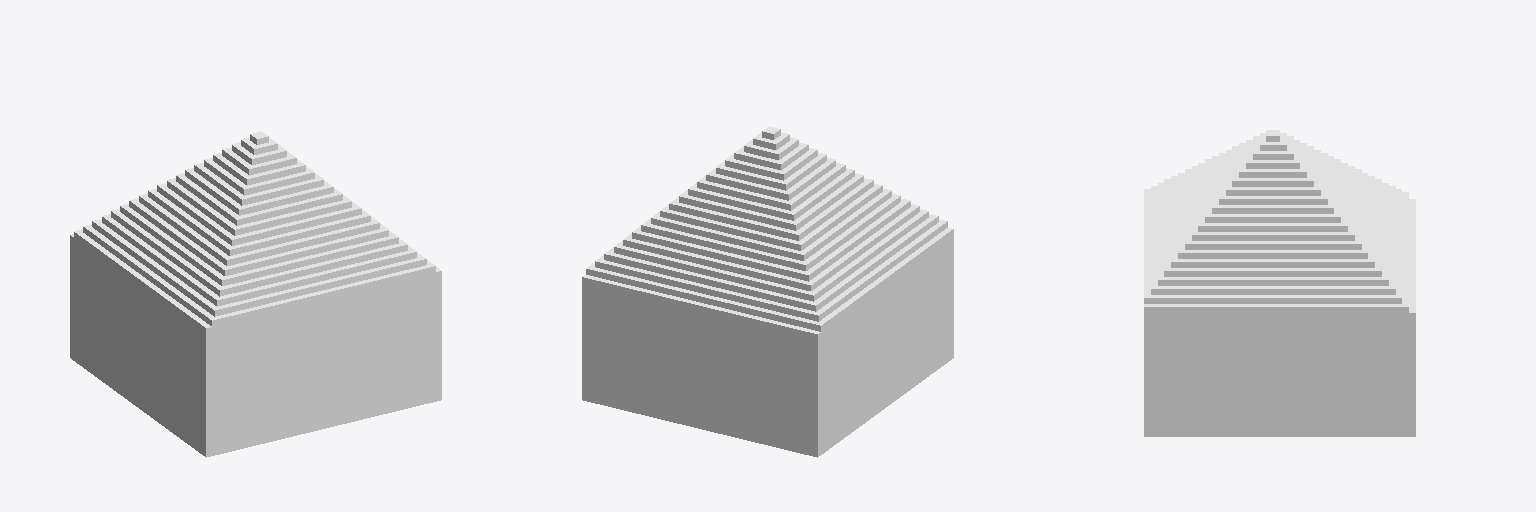
The model's file is big_spike.obj.
3 views of the same model, side by side, from view 1: azimuth 30°, elevation 25°; view 2: azimuth 150°, elevation 25°; view 3: azimuth 270°, elevation 25° (orthographic).
Parts seen in each view (by area): view 1: object 1; view 2: object 1; view 3: object 1.
Part boxes in pixels (bbox=[...]): object 1: bbox=[70, 131, 441, 457]; object 1: bbox=[582, 126, 953, 457]; object 1: bbox=[1144, 130, 1415, 436].
Size of the model in its own units: 4 by 4 by 4.